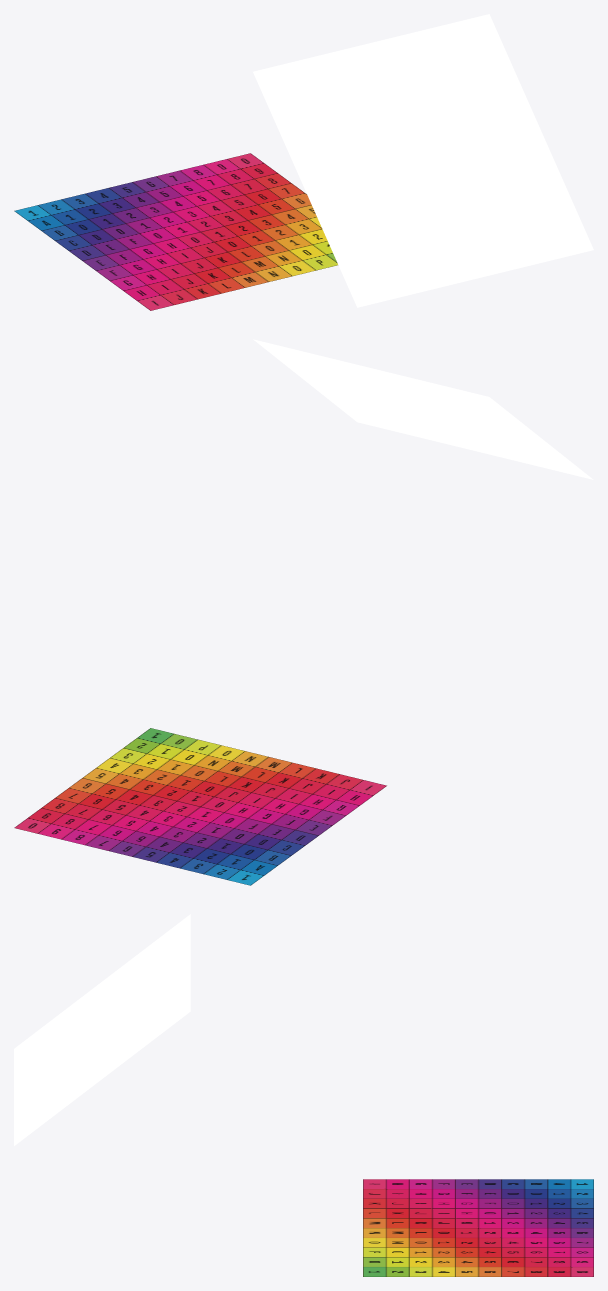
3 views of the same model, one above another, from view 1: azimuth 30°, elevation 25°; view 2: azimuth 150°, elevation 25°; view 3: azimuth 270°, elevation 25° (orthographic). The views are drawn at different scales.
Parts seen in each view (by area): view 1: Plane.001, Plane; view 2: Plane, Plane.001; view 3: Plane, Plane.001.
Boxes of the visible parts, left/top/right/bottom form: Plane.001: left=253, top=14, right=593, bottom=307; Plane: left=14, top=153, right=337, bottom=310; Plane: left=14, top=728, right=386, bottom=885; Plane.001: left=253, top=339, right=593, bottom=479; Plane: left=363, top=1179, right=593, bottom=1276; Plane.001: left=14, top=914, right=190, bottom=1145.
Bounding box in the file's own units: 4.76 × 6.04 × 11.96.
2 materials, 1 textured.
